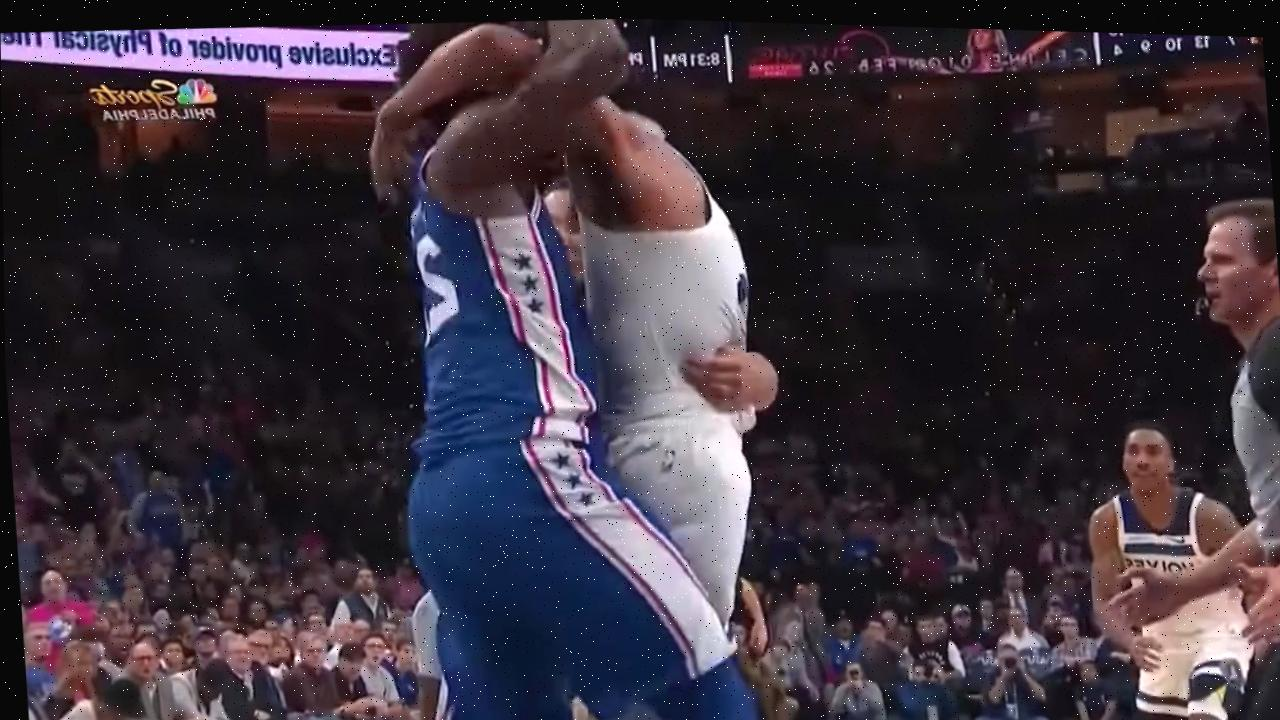foul: (330, 35, 874, 720)
